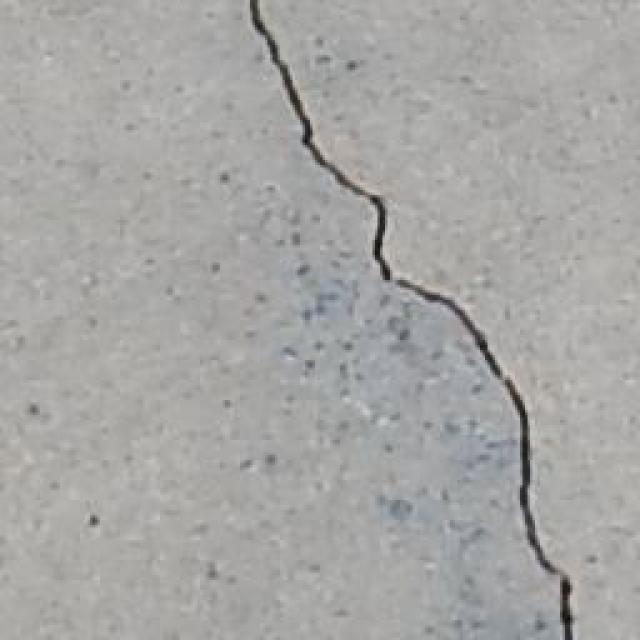concrete-crack: (245, 0, 575, 640)
